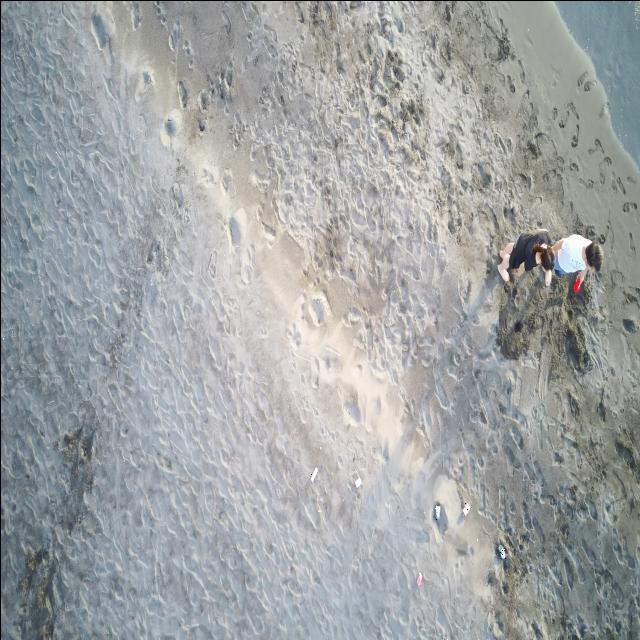Garbage: (572, 276, 580, 292), (496, 544, 504, 559), (433, 503, 440, 520), (415, 572, 423, 586), (463, 502, 470, 515), (311, 467, 316, 482), (355, 476, 360, 487)
